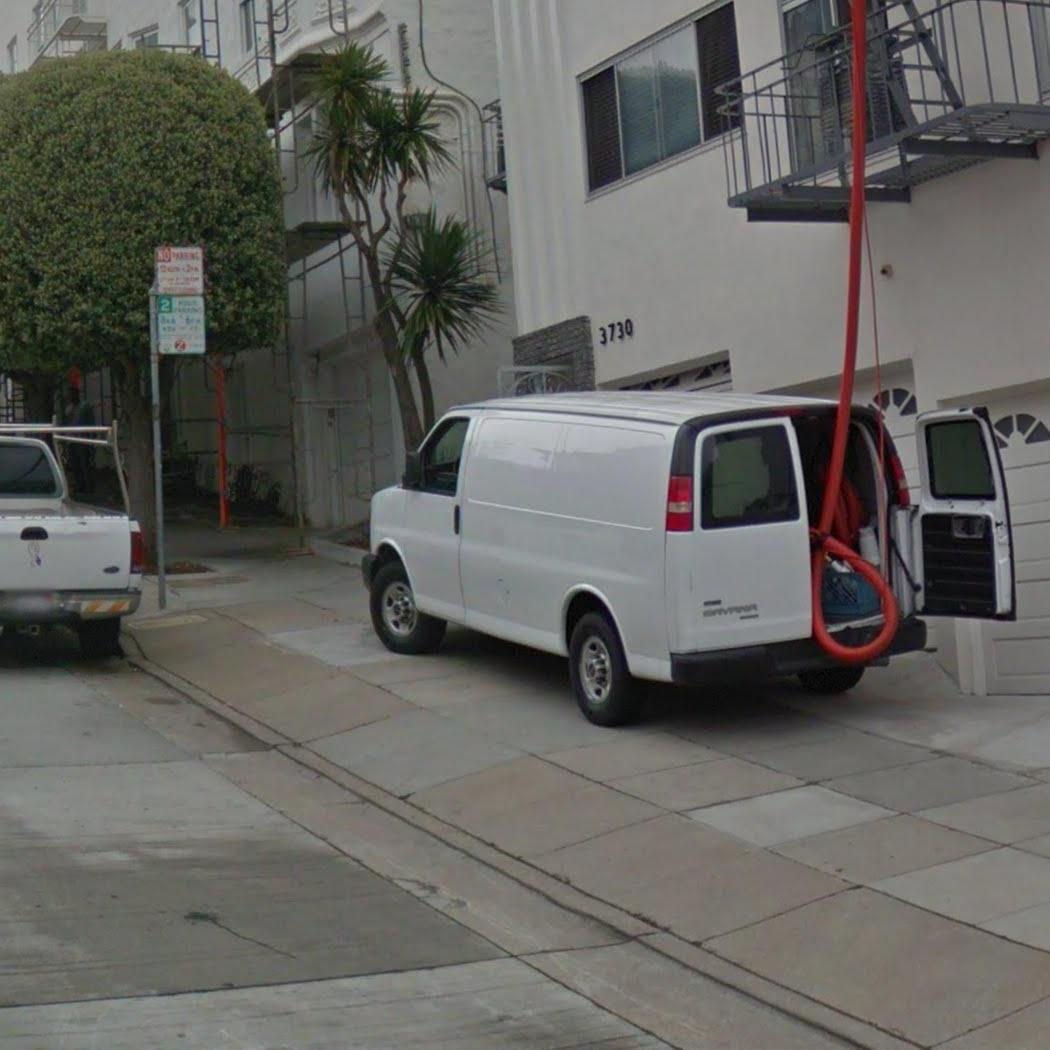2 Hour Parking: (153, 292, 209, 357)
No Parking: (152, 243, 206, 297)
